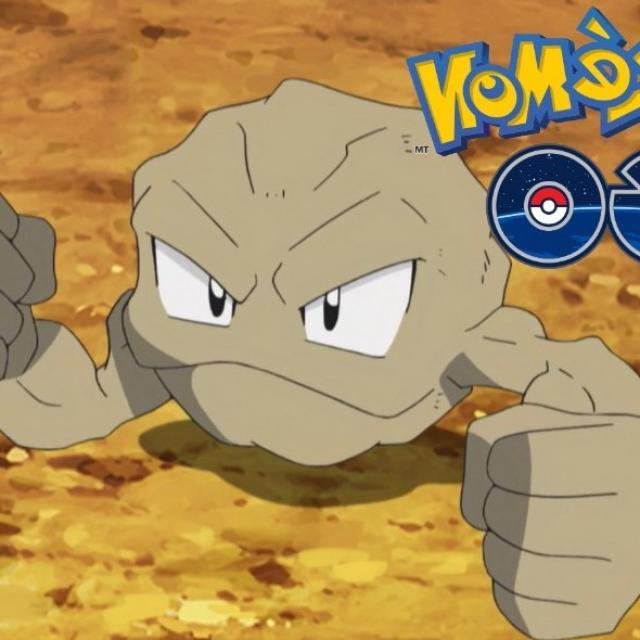Geodude: (0, 102, 640, 520)
